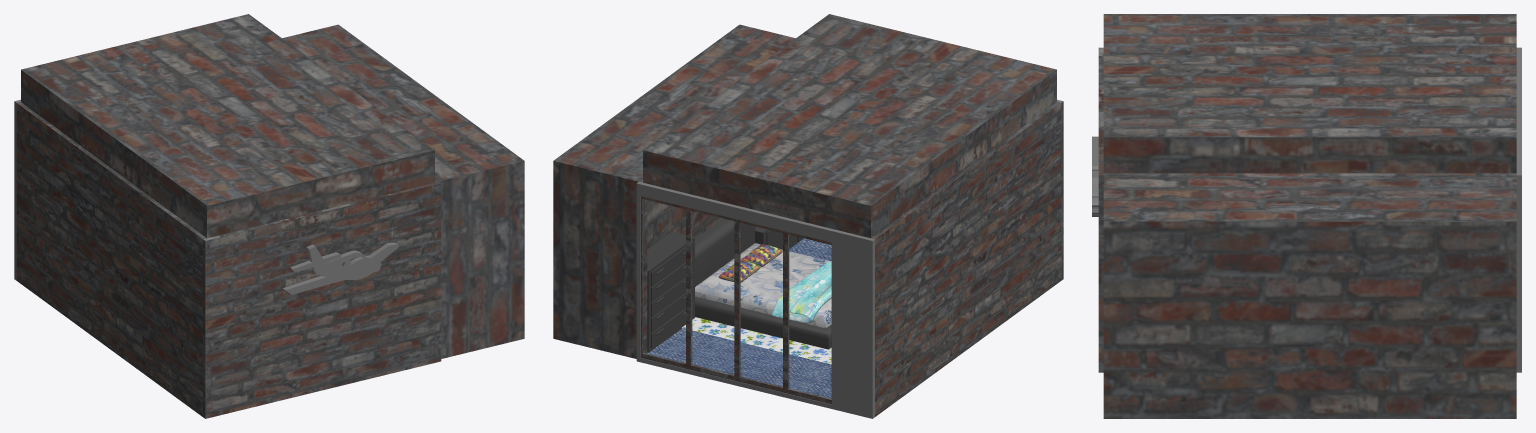
File: House.dae
3 renders of one model, left to right at view 1: azimuth 30°, elevation 25°; view 2: azimuth 150°, elevation 25°; view 3: azimuth 270°, elevation 25°, orthographic. The views are drawn at different scales.
Parts seen in each view (by area): view 1: Roof, Wall3, Wall1, slow_wall, Trim_Char_j_1_1, WIndow_Wall; view 2: Roof, Wall1, slow_wall, WIndow_Wall, Floor2, Window_Border, bed, closet, Mattress, Quilt, Plane_x0020__x0028_2_x0029_, closet1 (+3 smaller); view 3: slow_wall, Roof, Wall3, WIndow_Wall, Trim_Char_j_1_1.
Boxes of the visible parts, x1,y1,x2,y2 form: Roof: (21,14,434,238); Wall3: (203,182,441,418); Wall1: (16,102,206,416); slow_wall: (282,24,524,358); Trim_Char_j_1_1: (283,242,398,294); WIndow_Wall: (14,99,20,280); Roof: (643,14,1056,238); Wall1: (871,102,1061,416); slow_wall: (553,24,795,358); WIndow_Wall: (636,182,874,418); Floor2: (647,238,831,398); Window_Border: (641,196,831,404); bed: (695,218,831,349); closet: (647,231,694,352); Mattress: (695,243,831,328); Quilt: (772,261,831,322); Plane_x0020__x0028_2_x0029_: (682,317,831,364); closet1: (755,226,803,249); slow_wall: (1103,173,1516,418); Roof: (1103,14,1516,173); Wall3: (1098,47,1103,372); WIndow_Wall: (1516,47,1521,372); Trim_Char_j_1_1: (1092,136,1098,216).
Bounding box in the file's own units: 2236 × 1399 × 2334.
